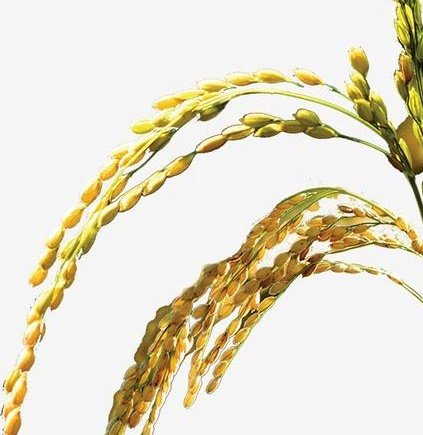rice: (3, 42, 412, 435)
